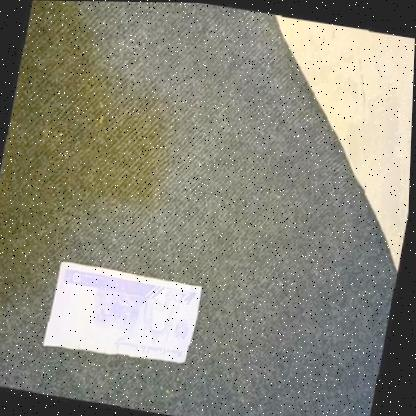ten-back-vef: (46, 260, 205, 368)
